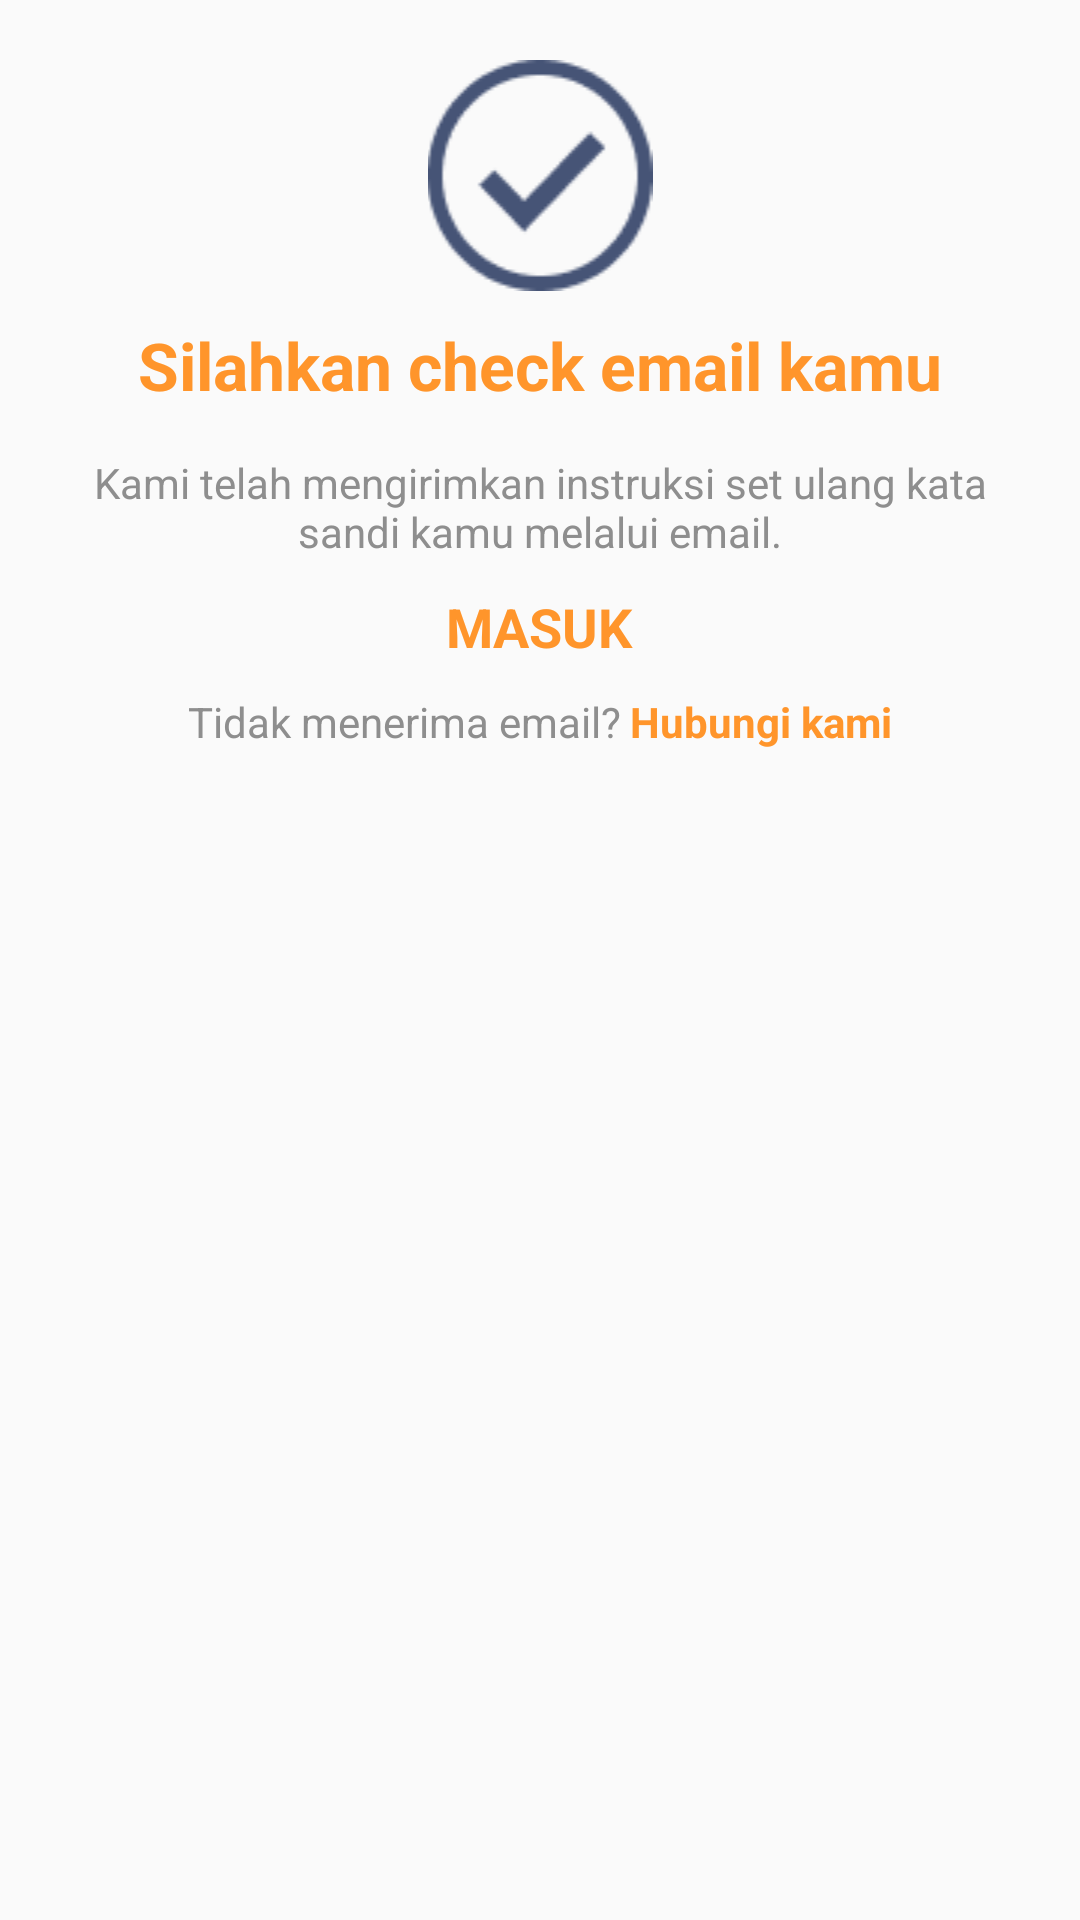

Named icons in this screenshot (1080px×1920px) and their centers, (x,y):
verifikasi: (540,175)
